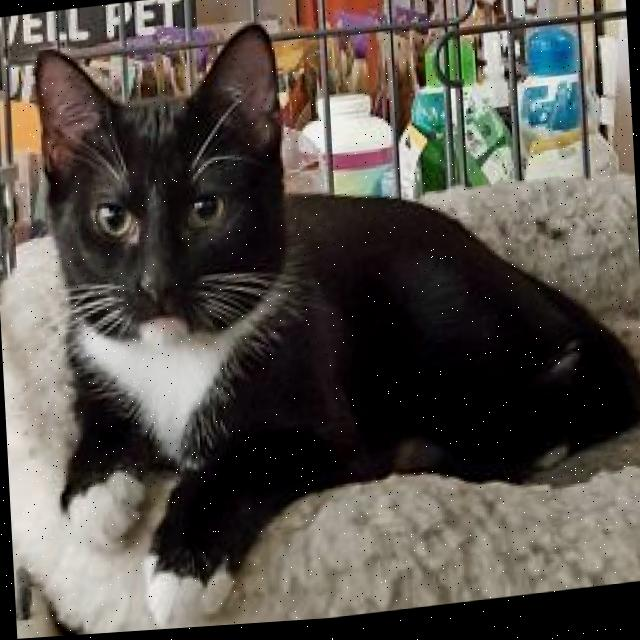Tuxedo: (27, 0, 640, 639)
